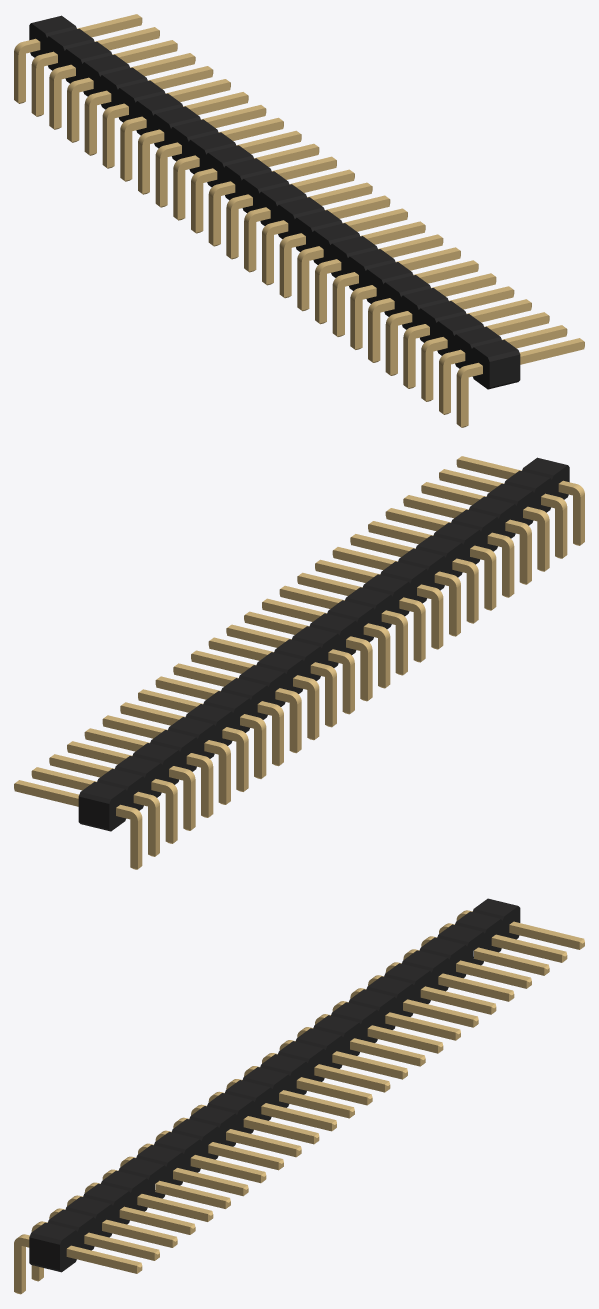
Rendered from kc-pinheader_1x26_p2.54mm_horizontal.glb.
3 renders of one model, top to bottom at view 1: azimuth 30°, elevation 25°; view 2: azimuth 150°, elevation 25°; view 3: azimuth 330°, elevation 25°, orthographic.
Parts seen in each view (by area): view 1: 0.75_0.5_0.25_0.9, 0_0_0_0; view 2: 0.75_0.5_0.25_0.9, 0_0_0_0; view 3: 0.75_0.5_0.25_0.9, 0_0_0_0.
Part boxes in pixels (x1,y1,x2,y2): 0.75_0.5_0.25_0.9: (14, 14, 584, 427); 0_0_0_0: (29, 15, 520, 389); 0.75_0.5_0.25_0.9: (14, 456, 584, 869); 0_0_0_0: (78, 457, 569, 831); 0.75_0.5_0.25_0.9: (14, 910, 584, 1294); 0_0_0_0: (29, 898, 520, 1272).
Bounding box in the file's own units: 1.04 × 0.5539 × 6.6.
